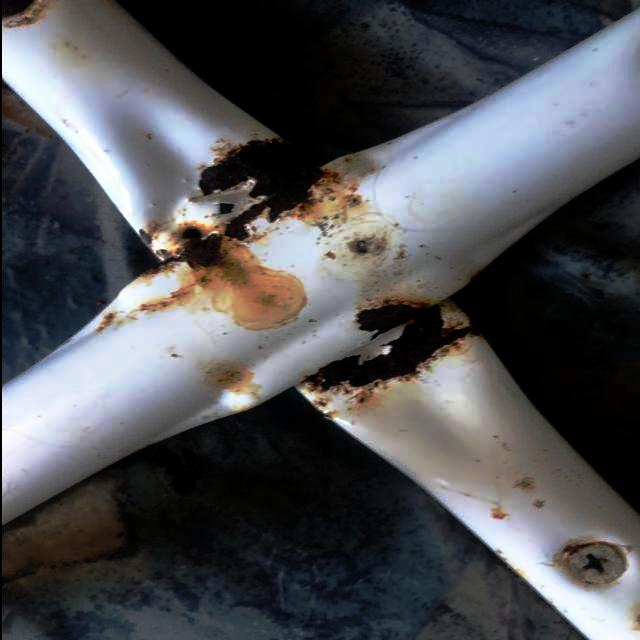Corrosion: (289, 353, 355, 394)
